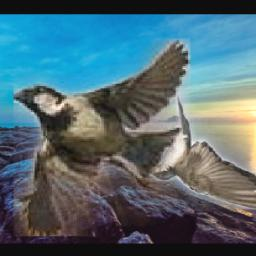Sparrow: (12, 39, 189, 237)
Swallow: (148, 91, 256, 210)
